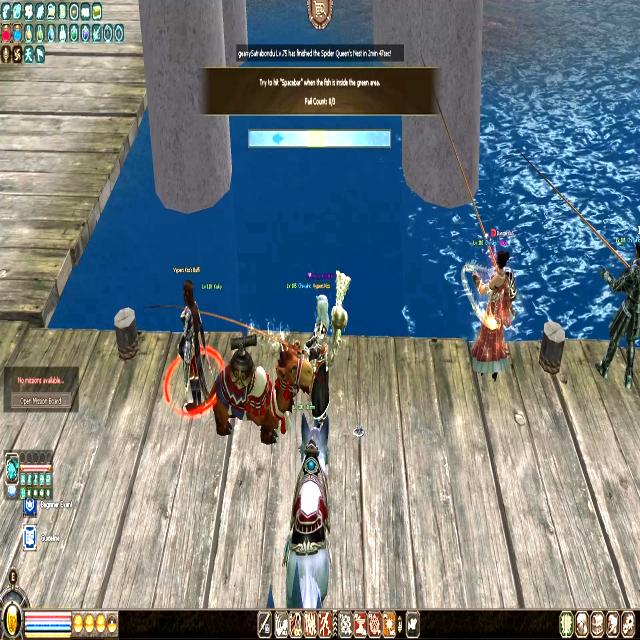fishes: (272, 130, 285, 145)
